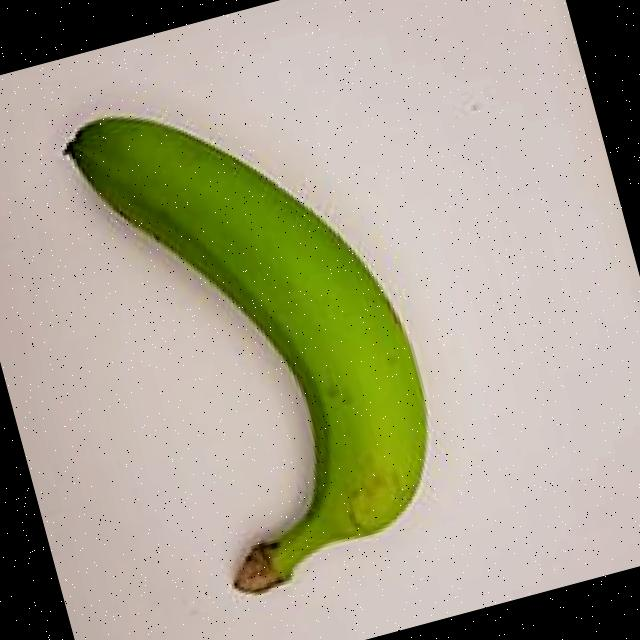Unripe: (11, 26, 498, 640)
